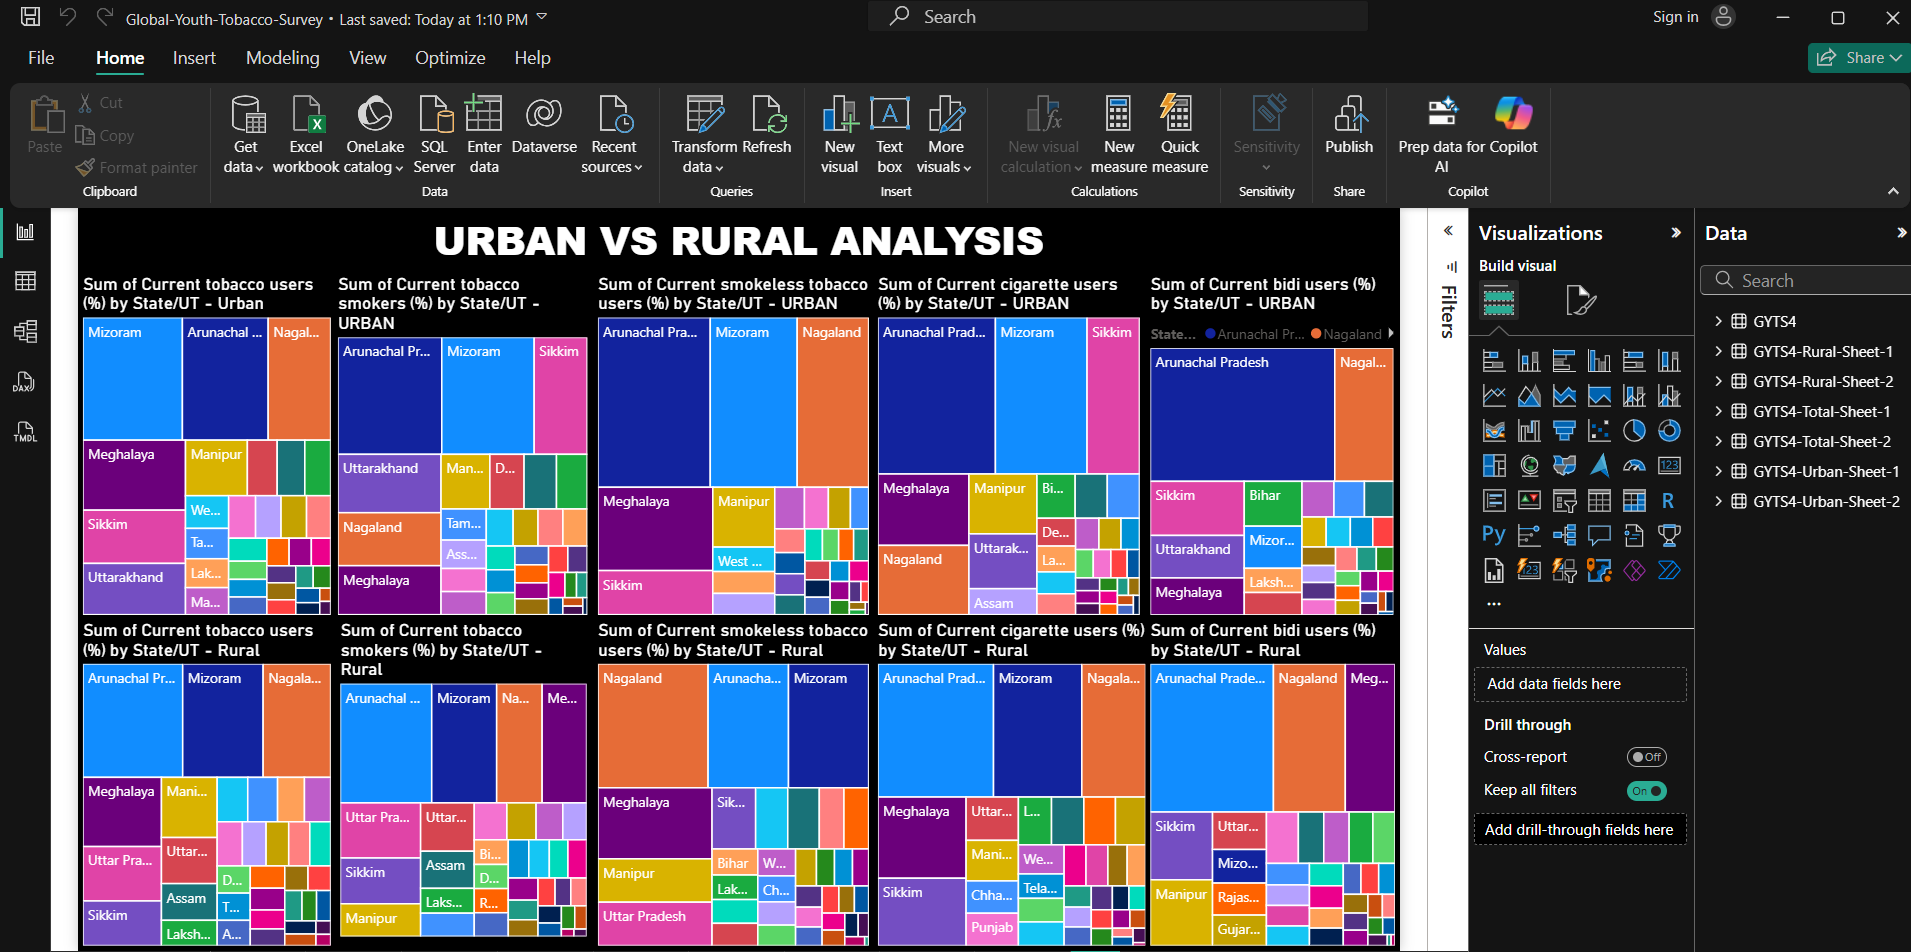

The page's visual inventory and layout, read from the dashboard file:
{"tool":"powerbi","page":{"name":"Page 3","canvas":[1280,720],"ordinal":2},"visuals":[{"type":"textbox","box":[0,0,1279.5,62.9],"z":0},{"type":"treemap","title":"Sum of Current bidi users (%) by State/UT - URBAN","fields":{"Group":["GYTS4-Urban-Sheet-1.State/UT"],"Values":["Sum(GYTS4-Urban-Sheet-1.Current bidi users (%))"]},"box":[1033.5,62.5,245.4,336.1],"z":1000},{"type":"treemap","title":"Sum of Current cigarette users (%) by State/UT - URBAN","fields":{"Group":["GYTS4-Urban-Sheet-1.State/UT"],"Values":["Sum(GYTS4-Urban-Sheet-1.Current cigarette users (%))"]},"box":[770.3,62.5,263.2,336.1],"z":2000},{"type":"treemap","title":"Sum of Current smokeless tobacco users (%) by State/UT - URBAN","fields":{"Group":["GYTS4-Urban-Sheet-1.State/UT"],"Values":["Sum(GYTS4-Urban-Sheet-1.Current smokeless tobacco users (%))"]},"box":[498.1,62.5,272.1,336.1],"z":3000},{"type":"treemap","title":"Sum of Current tobacco smokers (%) by State/UT - URBAN","fields":{"Group":["GYTS4-Urban-Sheet-1.State/UT"],"Values":["Sum(GYTS4-Urban-Sheet-1.Current tobacco smokers (%))"]},"box":[246.8,62.5,251.3,336.1],"z":4000},{"type":"treemap","title":"Sum of Current tobacco users (%) by State/UT - Urban","fields":{"Group":["GYTS4-Urban-Sheet-1.State/UT"],"Values":["Sum(GYTS4-Urban-Sheet-1.Current tobacco users (%))"]},"box":[0,62.5,249.8,336.1],"z":5000},{"type":"treemap","title":"Sum of Current tobacco users (%) by State/UT - Rural","fields":{"Group":["GYTS4-Rural-Sheet-1.State/UT"],"Values":["Sum(GYTS4-Rural-Sheet-1.Current tobacco users (%))"]},"box":[0,398.5,249.8,321.2],"z":6000},{"type":"treemap","title":"Sum of Current tobacco smokers (%) by State/UT - Rural","fields":{"Group":["GYTS4-Rural-Sheet-1.State/UT"],"Values":["Sum(GYTS4-Rural-Sheet-1.Current tobacco smokers (%))"]},"box":[249.8,398.5,248.3,312.3],"z":7000},{"type":"treemap","title":"Sum of Current smokeless tobacco users (%) by State/UT - Rural","fields":{"Group":["GYTS4-Rural-Sheet-1.State/UT"],"Values":["Sum(GYTS4-Rural-Sheet-1.Current smokeless tobacco users (%))"]},"box":[498.1,398.5,272.1,321.2],"z":8000},{"type":"treemap","title":"Sum of Current cigarette users (%) by State/UT - Rural","fields":{"Group":["GYTS4-Rural-Sheet-1.State/UT"],"Values":["Sum(GYTS4-Rural-Sheet-1.Current cigarette users (%))"]},"box":[770.3,398.5,269.1,321.2],"z":9000},{"type":"treemap","title":"Sum of Current bidi users (%) by State/UT - Rural","fields":{"Group":["GYTS4-Rural-Sheet-1.State/UT"],"Values":["Sum(GYTS4-Rural-Sheet-1.Current bidi users (%))"]},"box":[1033.5,398.5,246.8,321.2],"z":10000}]}

Visuals, with their boxes on the page's 1280x720 design canvas (x1, y1, x2, y2). These are canvas units, not pixel positions in the 1911x952 screenshot, which may show the page scaled, cropped or inside an application window:
textbox: bbox(0, 0, 1280, 63)
"Sum of Current bidi users (%) by State/UT - URBAN" treemap: bbox(1034, 62, 1279, 399)
"Sum of Current cigarette users (%) by State/UT - URBAN" treemap: bbox(770, 62, 1034, 399)
"Sum of Current smokeless tobacco users (%) by State/UT - URBAN" treemap: bbox(498, 62, 770, 399)
"Sum of Current tobacco smokers (%) by State/UT - URBAN" treemap: bbox(247, 62, 498, 399)
"Sum of Current tobacco users (%) by State/UT - Urban" treemap: bbox(0, 62, 250, 399)
"Sum of Current tobacco users (%) by State/UT - Rural" treemap: bbox(0, 398, 250, 720)
"Sum of Current tobacco smokers (%) by State/UT - Rural" treemap: bbox(250, 398, 498, 711)
"Sum of Current smokeless tobacco users (%) by State/UT - Rural" treemap: bbox(498, 398, 770, 720)
"Sum of Current cigarette users (%) by State/UT - Rural" treemap: bbox(770, 398, 1039, 720)
"Sum of Current bidi users (%) by State/UT - Rural" treemap: bbox(1034, 398, 1280, 720)
